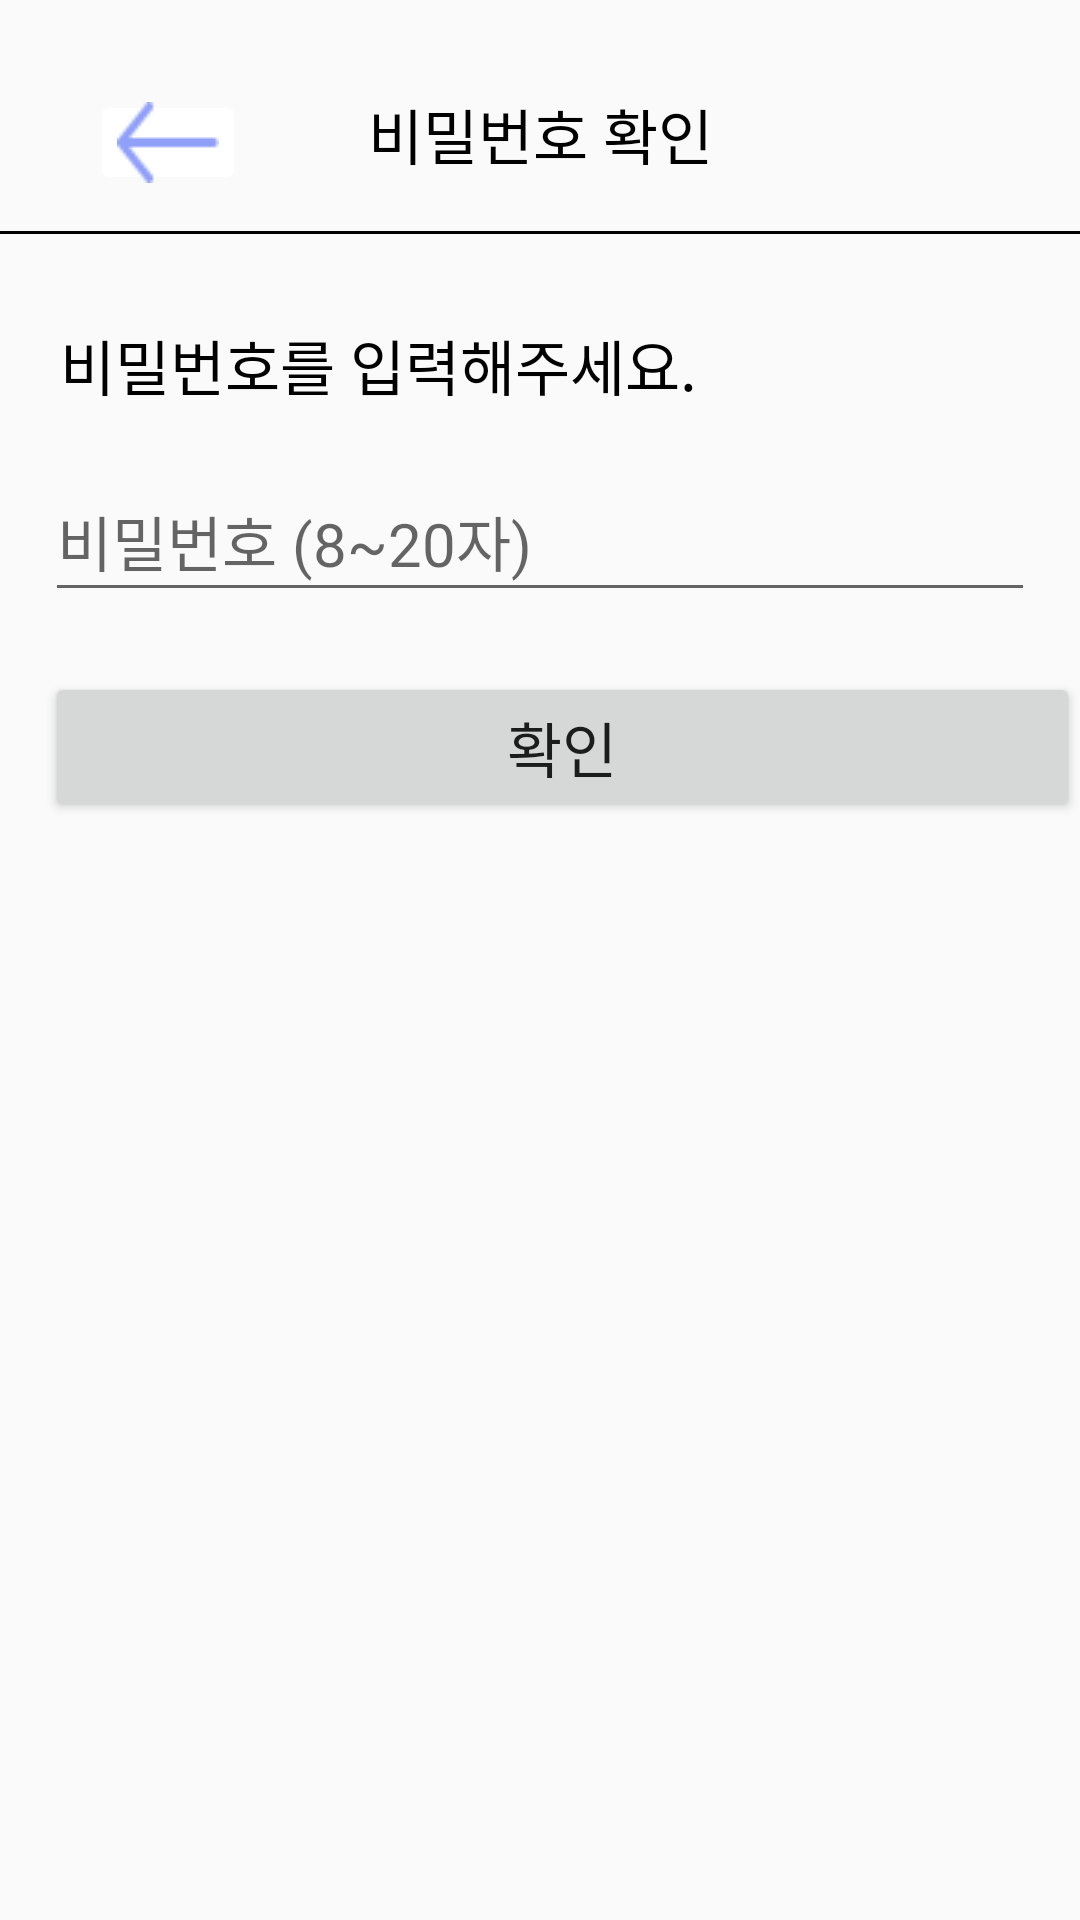

Icon bounding boxes for this 1080px×1920px phone screenshot, format box(x1, y1, x2, y2):
arrow left: box(117, 102, 219, 183)
